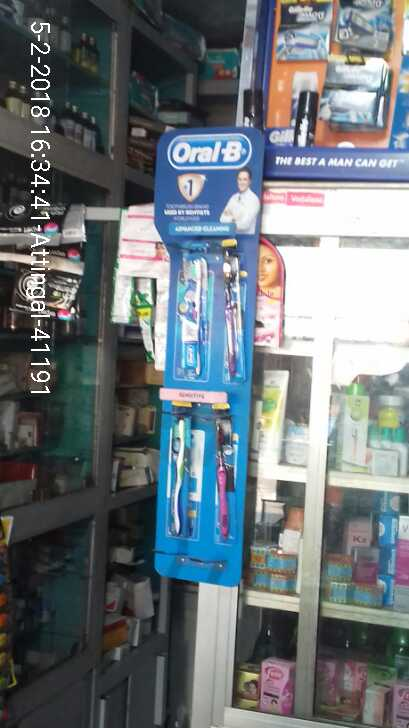oralb: (176, 251, 210, 383), (219, 237, 248, 382), (213, 407, 241, 548), (167, 400, 193, 541)
